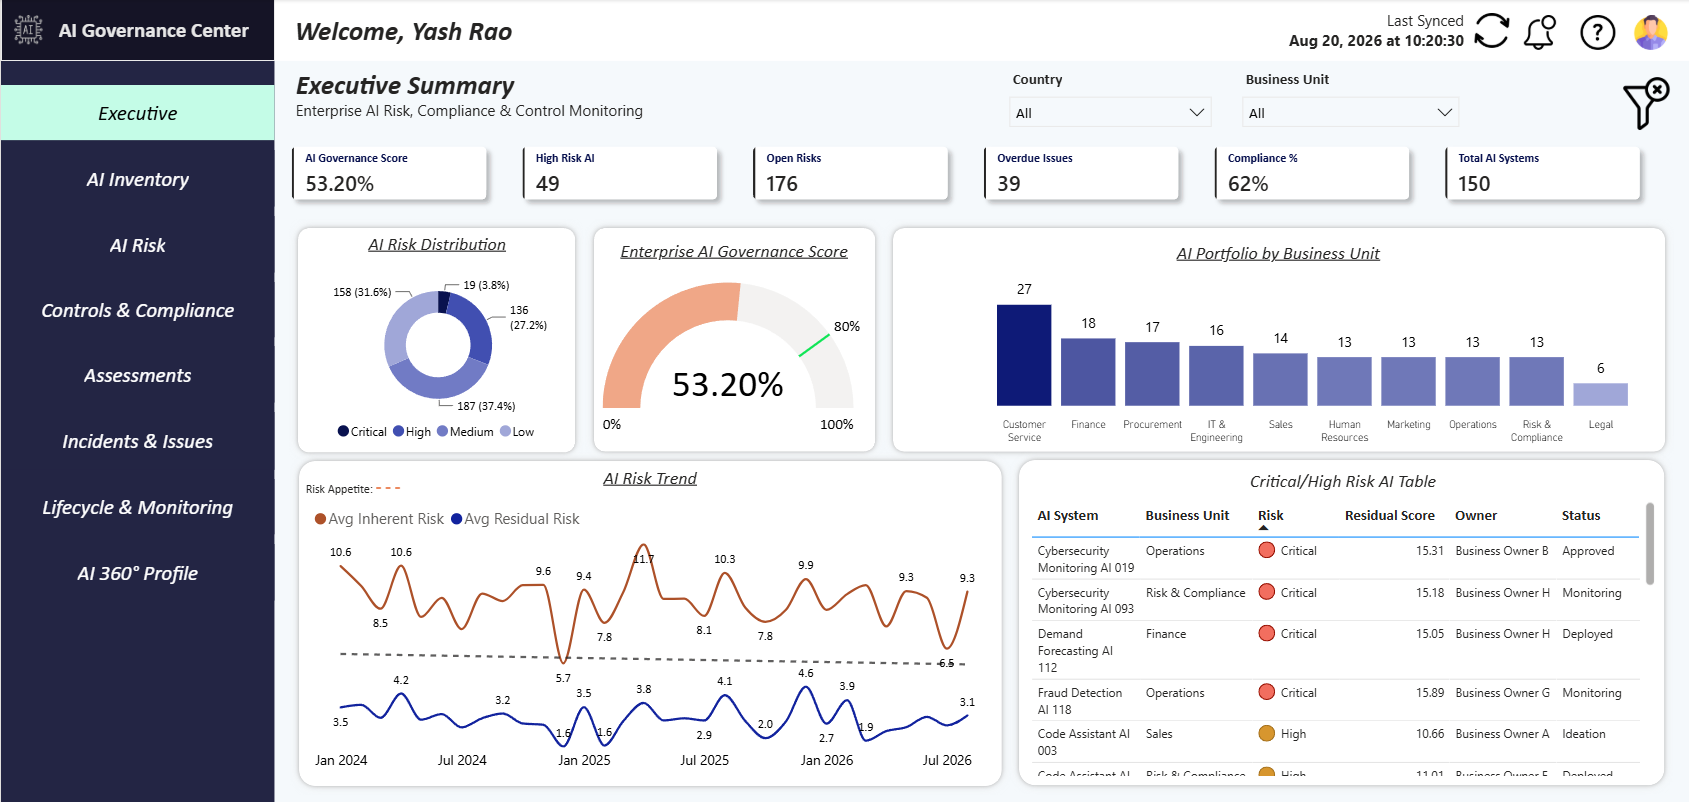

This screenshot's page, from the dashboard's own definition file:
{"tool":"powerbi","page":{"name":"Executive Summary","canvas":[1500,715],"ordinal":0},"visuals":[{"type":"shape","box":[0,0,1500,720.5],"z":0},{"type":"shape","box":[0,0,243.4,715.7],"z":1000},{"type":"shape","box":[0,0,243.4,55.2],"z":2000},{"type":"shape","box":[243.4,0,1256.6,55.2],"z":3000},{"type":"textbox","box":[46,10.2,186.1,33.7],"z":4000},{"type":"image","box":[1446.8,14.3,39.5,31.1],"z":5000},{"type":"image","box":[1347.6,14.3,38.6,31.1],"z":6000},{"type":"shape","box":[0,76.2,242.9,49.5],"z":7000},{"type":"shape","box":[0,484,243,50],"z":8000},{"type":"shape","box":[0,426.5,243,49],"z":9000},{"type":"shape","box":[0,192.6,243,50],"z":10000},{"type":"shape","box":[0,367,243,51.1],"z":11000},{"type":"shape","box":[0,308.5,243,50],"z":12000},{"type":"shape","box":[0,251.1,243,49],"z":13000},{"type":"shape","box":[0,134.1,243,50],"z":14000},{"type":"textbox","box":[257.1,55.7,430.2,61],"z":15000},{"type":"cardVisual","fields":{"Data":["_Measures (2).AI Governance Score","_Measures (2).High Risk AI","_Measures (2).Open Risks","_Measures (2).Overdue Issues","_Measures (2).Compliance %","_Measures (2).Total AI Systems"]},"box":[229,102.2,1257.7,105.3],"z":16000},{"type":"slicer","fields":{"Values":["AI_Inventory.Country"]},"box":[885.6,57.5,199.6,69.7],"z":17000},{"type":"slicer","fields":{"Values":["AI_Inventory.Business_Unit"]},"box":[1092.8,57.5,212.8,69.7],"z":18000},{"type":"shape","box":[256.2,195.2,262.4,215.5],"z":19000},{"type":"donutChart","fields":{"Y":["Count(Fact_Risk.Risk_ID)"],"Category":["AI_Inventory.Risk_Tier"]},"box":[265.9,240.3,245.6,161.7],"z":20000},{"type":"textbox","box":[291.5,202.3,192.4,38],"z":21000},{"type":"shape","box":[518.6,195.2,265.9,214.7],"z":22000},{"type":"gauge","fields":{"Y":["_Measures (2).AI Governance Score"],"TargetValue":["_Measures (2).Target"]},"box":[530,246.5,244.7,150.2],"z":23000},{"type":"textbox","box":[538.9,208.5,226,38],"z":24000},{"type":"shape","box":[784.3,195.3,702.1,214.8],"z":25000},{"type":"clusteredColumnChart","fields":{"Category":["AI_Inventory.Business_Unit"],"Y":["_Measures (2).Total AI Systems"]},"box":[851.6,234.1,622.8,168.7],"z":26000},{"type":"textbox","box":[1017.1,210.8,235.4,37.7],"z":27000},{"type":"shape","box":[256.5,402.7,640.5,304.9],"z":28000},{"type":"lineChart","fields":{"Category":["Calander Table.Year_Month"],"Y":["_Measures.Avg Inherent Risk","_Measures.Avg Residual Risk"]},"box":[272.7,441.6,613,253],"z":29000},{"type":"shape","box":[896.7,401.9,589.5,305.1],"z":30000},{"type":"tableEx","fields":{"Values":["AI_Inventory.AI_Name","AI_Inventory.Business_Unit","Fact_Risk.Residual_Risk_Level","Fact_Risk.Residual_Risk_Score","AI_Inventory.Business_Owner","AI_Inventory.Lifecycle_Status"]},"box":[909.9,441.4,565,253.3],"z":31000},{"type":"textbox","box":[463.6,410.7,226,38],"z":32000},{"type":"textbox","box":[1079.2,413.1,226,38],"z":33000},{"type":"image","box":[9.2,14.3,30.7,25.6],"z":34000},{"type":"image","box":[1399.8,14.3,39,31],"z":35000},{"type":"textbox","box":[1100.7,5.1,204.2,44.9],"z":36000},{"type":"image","box":[1305,12.3,39,31],"z":37000},{"type":"textbox","box":[256.3,8.2,429.9,42.9],"z":38000},{"type":"textbox","box":[265.7,418.7,105.3,34.8],"z":39000},{"type":"image","box":[1439,68,46.8,49.5],"z":40000}]}

Visuals, with their boxes on the page's 1500x715 design canvas (x1, y1, x2, y2). These are canvas units, not pixel positions in the 1689x802 screenshot, which may show the page scaled, cropped or inside an application window:
shape: (x1=0, y1=0, x2=1500, y2=720)
shape: (x1=0, y1=0, x2=243, y2=716)
shape: (x1=0, y1=0, x2=243, y2=55)
shape: (x1=243, y1=0, x2=1500, y2=55)
textbox: (x1=46, y1=10, x2=232, y2=44)
image: (x1=1447, y1=14, x2=1486, y2=45)
image: (x1=1348, y1=14, x2=1386, y2=45)
shape: (x1=0, y1=76, x2=243, y2=126)
shape: (x1=0, y1=484, x2=243, y2=534)
shape: (x1=0, y1=426, x2=243, y2=476)
shape: (x1=0, y1=193, x2=243, y2=243)
shape: (x1=0, y1=367, x2=243, y2=418)
shape: (x1=0, y1=308, x2=243, y2=358)
shape: (x1=0, y1=251, x2=243, y2=300)
shape: (x1=0, y1=134, x2=243, y2=184)
textbox: (x1=257, y1=56, x2=687, y2=117)
cardVisual - _Measures (2).AI Governance Score x _Measures (2).High Risk AI: (x1=229, y1=102, x2=1487, y2=208)
slicer - AI_Inventory.Country: (x1=886, y1=58, x2=1085, y2=127)
slicer - AI_Inventory.Business_Unit: (x1=1093, y1=58, x2=1306, y2=127)
shape: (x1=256, y1=195, x2=519, y2=411)
donutChart - Count(Fact_Risk.Risk_ID) x AI_Inventory.Risk_Tier: (x1=266, y1=240, x2=512, y2=402)
textbox: (x1=292, y1=202, x2=484, y2=240)
shape: (x1=519, y1=195, x2=784, y2=410)
gauge - _Measures (2).AI Governance Score x _Measures (2).Target: (x1=530, y1=246, x2=775, y2=397)
textbox: (x1=539, y1=208, x2=765, y2=246)
shape: (x1=784, y1=195, x2=1486, y2=410)
clusteredColumnChart - AI_Inventory.Business_Unit x _Measures (2).Total AI Systems: (x1=852, y1=234, x2=1474, y2=403)
textbox: (x1=1017, y1=211, x2=1252, y2=248)
shape: (x1=256, y1=403, x2=897, y2=708)
lineChart - Calander Table.Year_Month x _Measures.Avg Inherent Risk: (x1=273, y1=442, x2=886, y2=695)
shape: (x1=897, y1=402, x2=1486, y2=707)
tableEx - AI_Inventory.AI_Name x AI_Inventory.Business_Unit: (x1=910, y1=441, x2=1475, y2=695)
textbox: (x1=464, y1=411, x2=690, y2=449)
textbox: (x1=1079, y1=413, x2=1305, y2=451)
image: (x1=9, y1=14, x2=40, y2=40)
image: (x1=1400, y1=14, x2=1439, y2=45)
textbox: (x1=1101, y1=5, x2=1305, y2=50)
image: (x1=1305, y1=12, x2=1344, y2=43)
textbox: (x1=256, y1=8, x2=686, y2=51)
textbox: (x1=266, y1=419, x2=371, y2=454)
image: (x1=1439, y1=68, x2=1486, y2=118)
